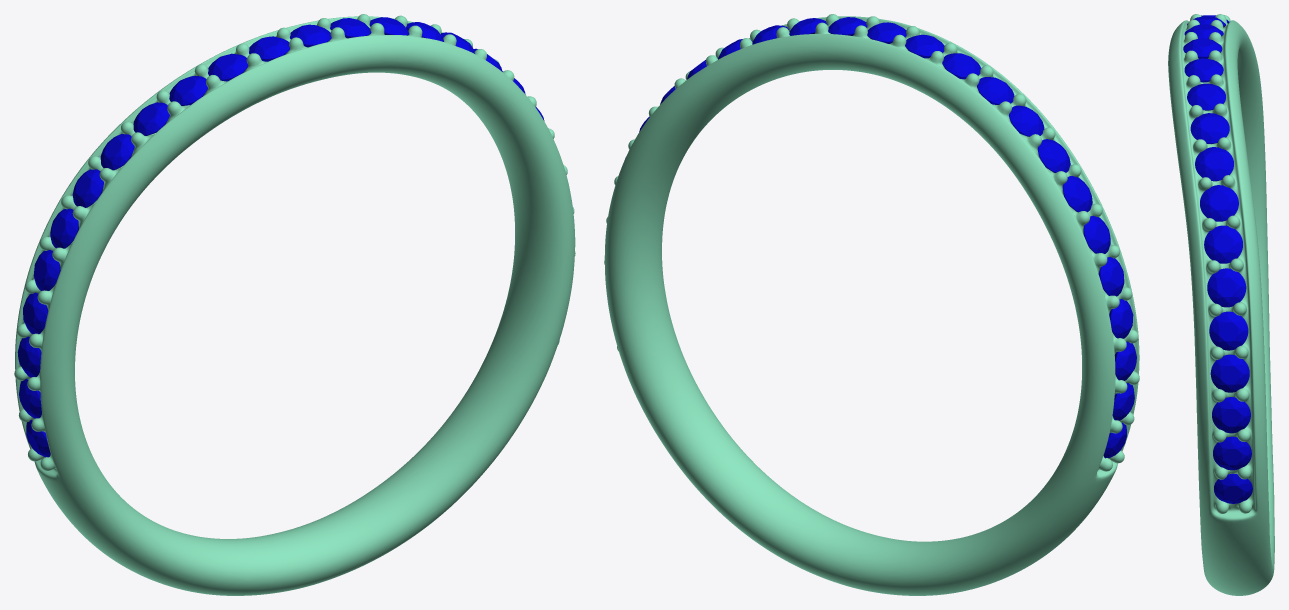
3 renders of one model, left to right at view 1: azimuth 30°, elevation 25°; view 2: azimuth 150°, elevation 25°; view 3: azimuth 270°, elevation 25°, orthographic. The views are drawn at different scales.
Parts seen in each view (by area): view 1: Metal03, Diamond_Band.007, Diamond_Band.006, Diamond_Band.008, Diamond_Band.005, Diamond_Band.009, Diamond_Band.004, Diamond_Band.010, Diamond_Band.003, Diamond_Band.011; view 2: Metal03, Diamond_Band.007, Diamond_Band.006, Diamond_Band.008, Diamond_Band.005, Diamond_Band.009, Diamond_Band.004, Diamond_Band.010, Diamond_Band.003; view 3: Metal03, Diamond_Band.019, Diamond_Band.020, Diamond_Band.018, Diamond_Band.021, Diamond_Band.017, Diamond_Band.022, Diamond_Band.016, Diamond_Band.023, Diamond_Band.015, Diamond_Band.024, Diamond_Band.014 (+4 smaller).
Part boxes in pixels (x1=…): Metal03: x1=14, y1=14, x2=575, y2=595; Diamond_Band.007: x1=100, y1=134, x2=134, y2=170; Diamond_Band.006: x1=72, y1=169, x2=103, y2=207; Diamond_Band.008: x1=133, y1=102, x2=169, y2=135; Diamond_Band.005: x1=50, y1=208, x2=78, y2=248; Diamond_Band.009: x1=169, y1=76, x2=207, y2=105; Diamond_Band.004: x1=33, y1=250, x2=60, y2=290; Diamond_Band.010: x1=208, y1=53, x2=248, y2=81; Diamond_Band.003: x1=23, y1=292, x2=48, y2=334; Diamond_Band.011: x1=249, y1=36, x2=289, y2=61; Metal03: x1=604, y1=14, x2=1139, y2=595; Diamond_Band.007: x1=1037, y1=139, x2=1070, y2=172; Diamond_Band.006: x1=1062, y1=176, x2=1092, y2=212; Diamond_Band.008: x1=1009, y1=105, x2=1044, y2=136; Diamond_Band.005: x1=1083, y1=215, x2=1110, y2=253; Diamond_Band.009: x1=977, y1=77, x2=1014, y2=104; Diamond_Band.004: x1=1098, y1=257, x2=1124, y2=296; Diamond_Band.010: x1=942, y1=53, x2=980, y2=79; Diamond_Band.003: x1=1109, y1=299, x2=1133, y2=338; Metal03: x1=1168, y1=14, x2=1274, y2=595; Diamond_Band.019: x1=1207, y1=268, x2=1246, y2=307; Diamond_Band.020: x1=1209, y1=311, x2=1248, y2=350; Diamond_Band.018: x1=1204, y1=225, x2=1242, y2=263; Diamond_Band.021: x1=1210, y1=354, x2=1249, y2=392; Diamond_Band.017: x1=1200, y1=185, x2=1238, y2=221; Diamond_Band.022: x1=1212, y1=397, x2=1250, y2=433; Diamond_Band.016: x1=1195, y1=147, x2=1233, y2=181; Diamond_Band.023: x1=1213, y1=436, x2=1251, y2=470; Diamond_Band.015: x1=1190, y1=113, x2=1229, y2=143; Diamond_Band.024: x1=1214, y1=473, x2=1252, y2=503; Diamond_Band.014: x1=1187, y1=83, x2=1225, y2=110.
Bounding box in the file's own units: 20.86 × 20.85 × 3.83.
